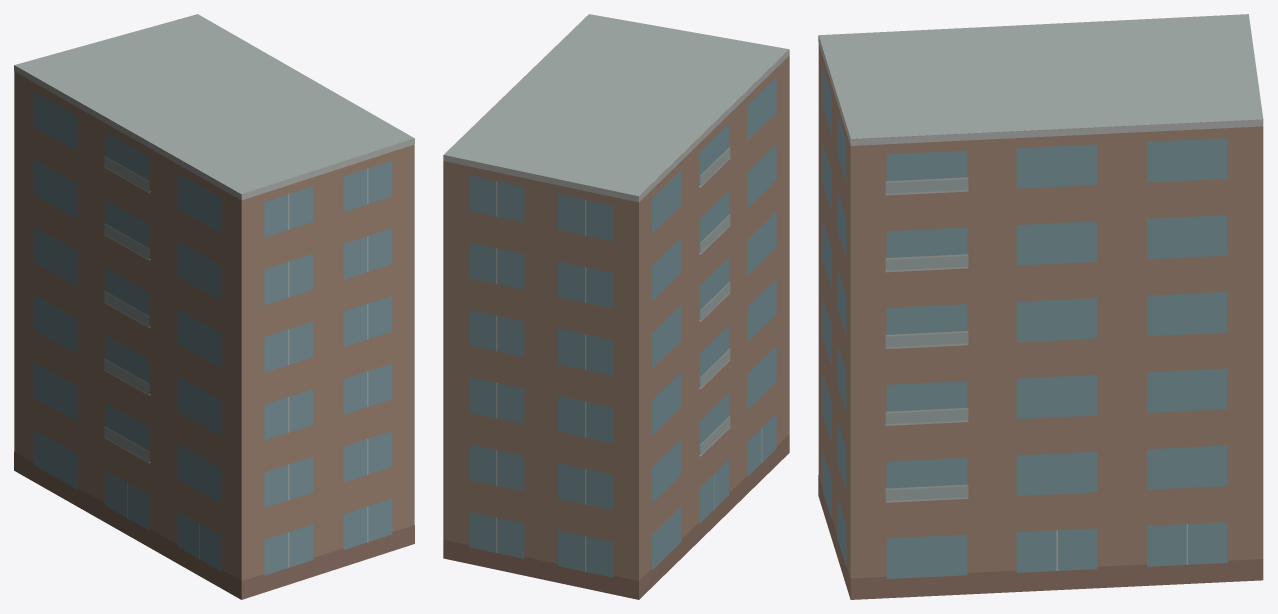
Rendered from survey-upis-32746774.glb.
3 renders of one model, left to right at view 1: azimuth 30°, elevation 25°; view 2: azimuth 150°, elevation 25°; view 3: azimuth 270°, elevation 25°, orthographic. The views are drawn at different scales.
Parts seen in each view (by area): view 1: survey-upis-32746774.tmp; view 2: survey-upis-32746774.tmp; view 3: survey-upis-32746774.tmp.
Part boxes in pixels (left/top/right/bottom): survey-upis-32746774.tmp: left=14, top=14, right=414, bottom=599; survey-upis-32746774.tmp: left=443, top=14, right=789, bottom=599; survey-upis-32746774.tmp: left=818, top=14, right=1263, bottom=599.
Bounding box in the file's own units: 9.38 × 16.1 × 14.1.
